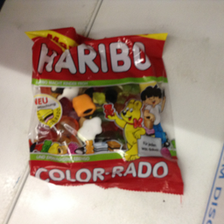candy: (25, 28, 185, 197)
